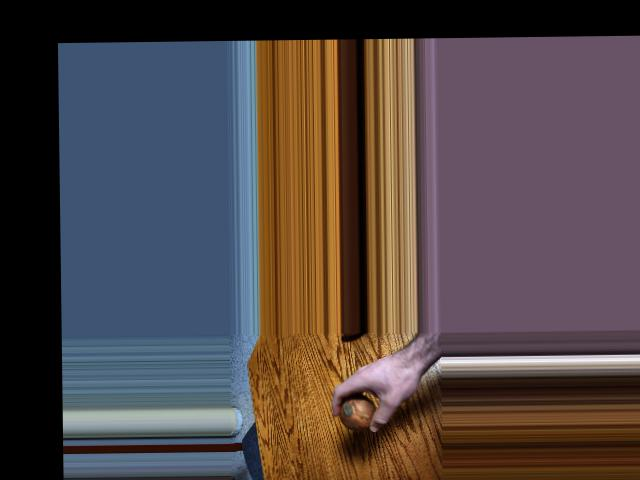onion: (336, 388, 381, 429)
